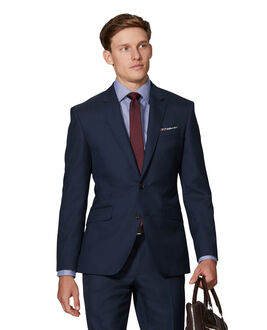F_M_suit jacket: (42, 79, 235, 276)
F_shirt: (107, 76, 159, 168)
F_tie: (120, 86, 150, 170)
